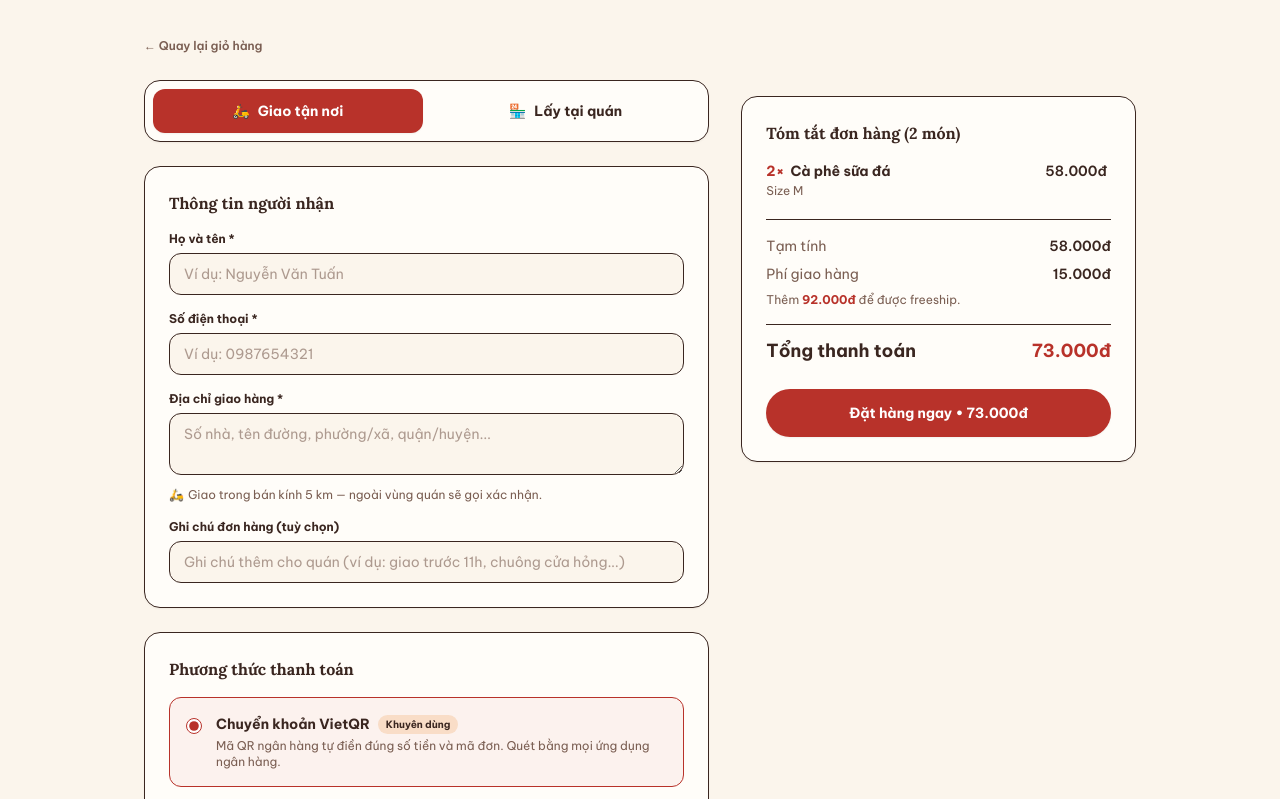
CheckoutForm (T8, C4, C5, C6, C9-UI) › shows validation error on client if fields are empty
Click the button "Đặt hàng ngay • 73.000đ" at (939, 413), box [766,389,1111,437]
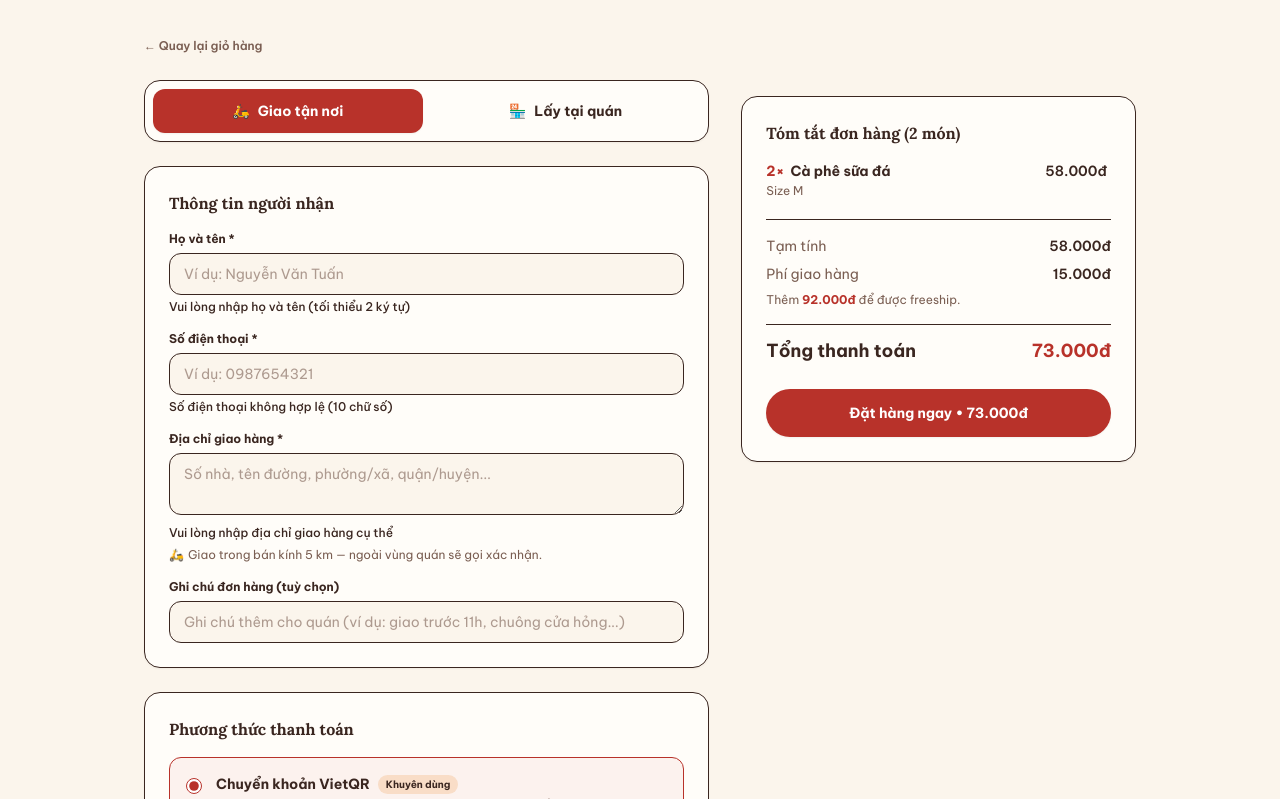
Result: the text "Vui lòng nhập họ và tên (tối thiểu 2 ký tự)" is shown at [169,299,410,314]
